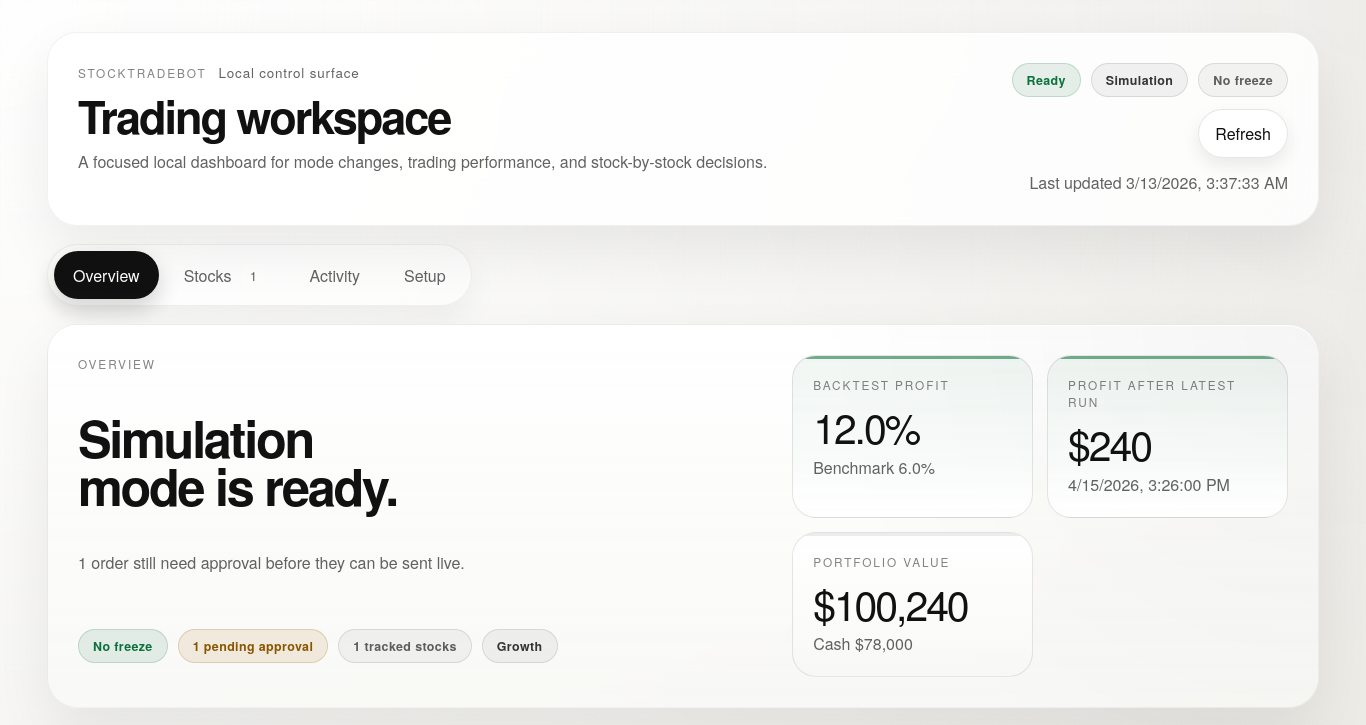
App › saves setup changes through the config api
Click the button "Setup": (425, 275) [385,251,465,299]
(page scrolled)
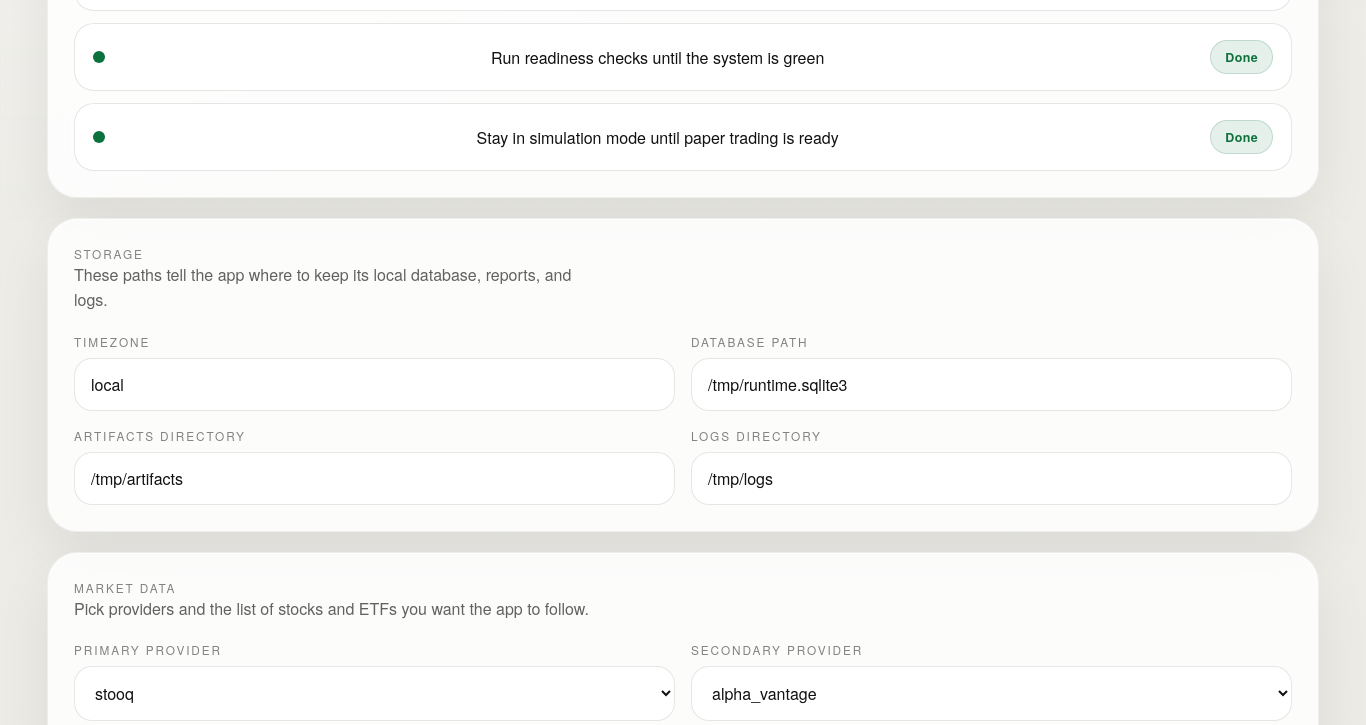
Replace the text in the field showing "local" with "UTC": (374, 384) [74,358,675,411]
(page scrolled)
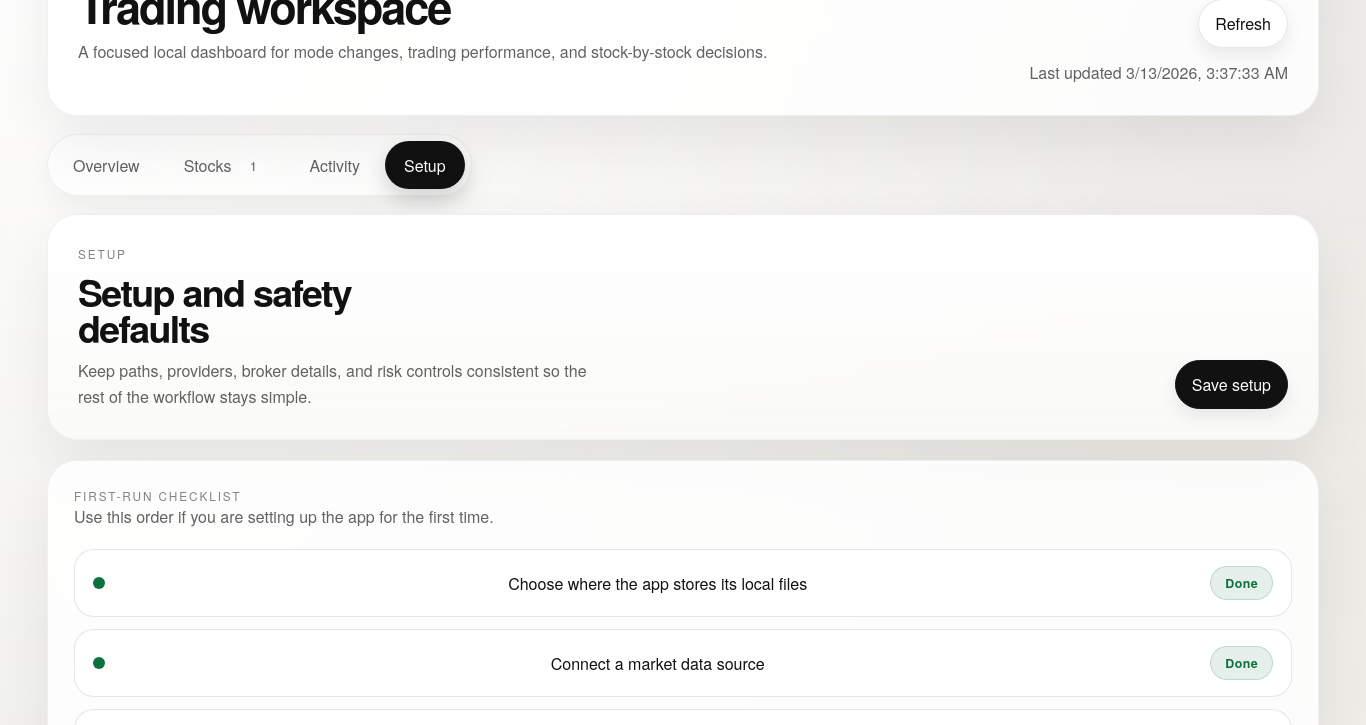
Click the button "Save setup": (1231, 384) [1175,360,1288,409]
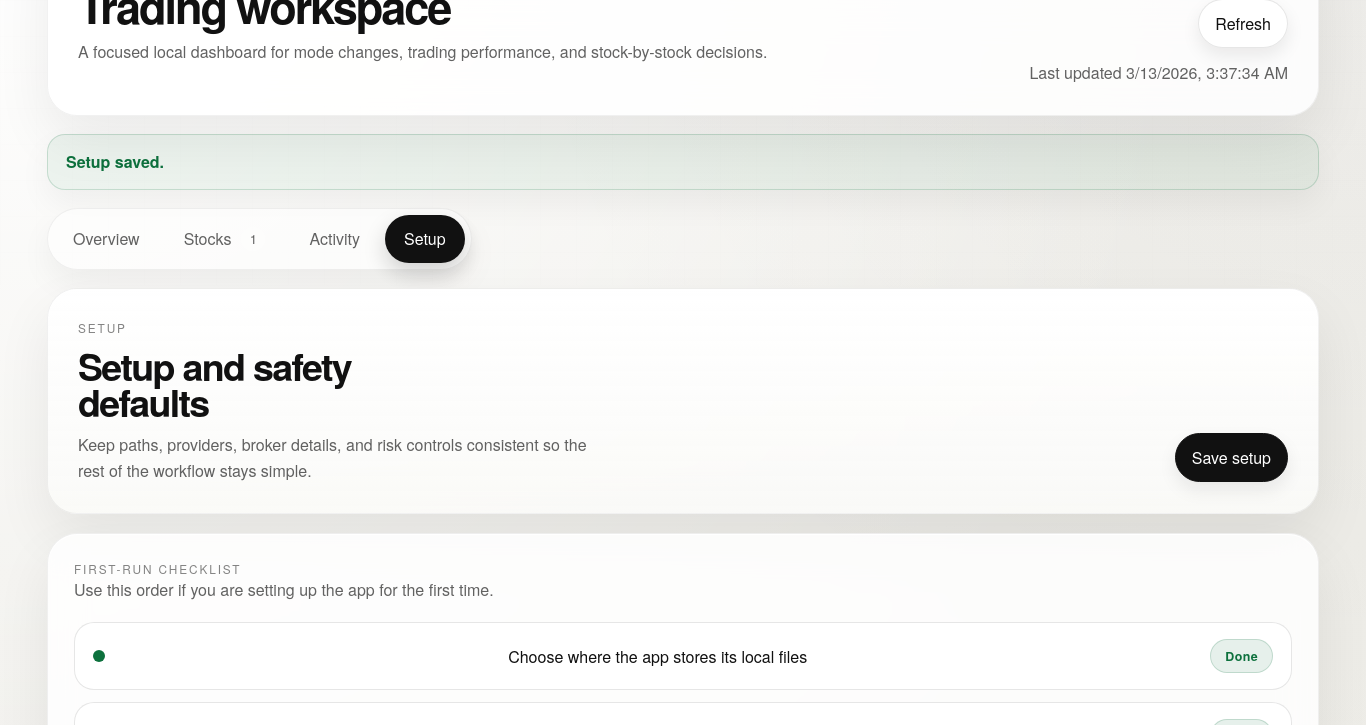
Expected: the text "Setup saved." is shown, [47,134,1319,190]
